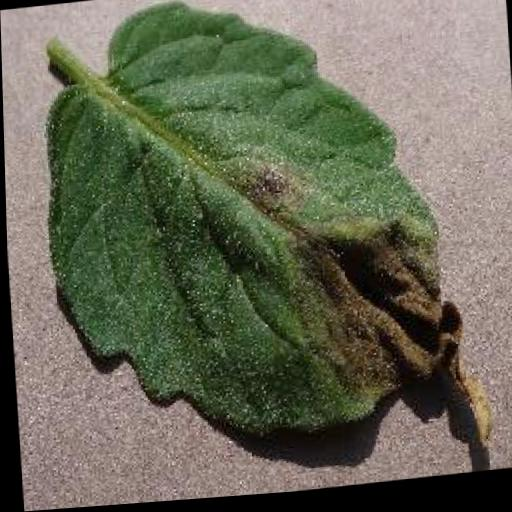Late Blight: (32, 0, 491, 510)
